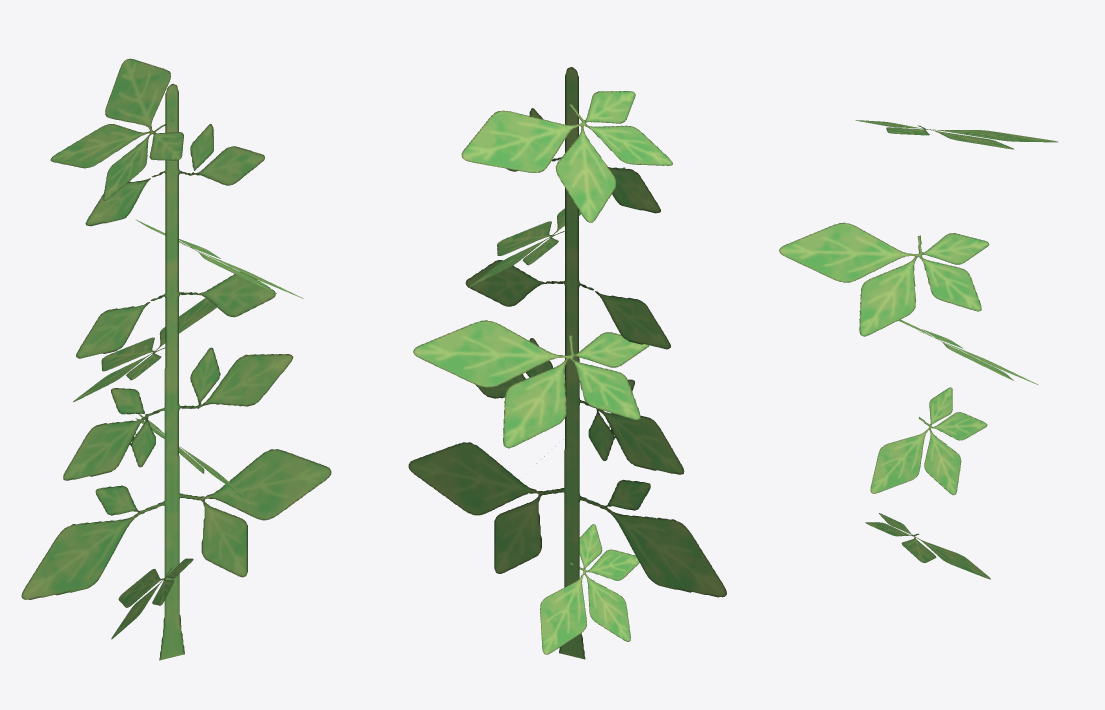
Rendered from LeafSetF_12.fbx.
The picture shows the model from 3 angles, left to right: view 1: azimuth 30°, elevation 25°; view 2: azimuth 150°, elevation 25°; view 3: azimuth 270°, elevation 25°; orthographic projection. The views are drawn at different scales.
Visible parts, largest first — view 1: LeafSetF_12; view 2: LeafSetF_12; view 3: LeafSetF_12.
Boxes of the visible parts, <box> form: LeafSetF_12: <box>21,58,331,660</box>; LeafSetF_12: <box>408,67,726,659</box>; LeafSetF_12: <box>779,120,1057,579</box>.
Bounding box in the file's own units: 0.7043 × 1.17 × 0.6509.
